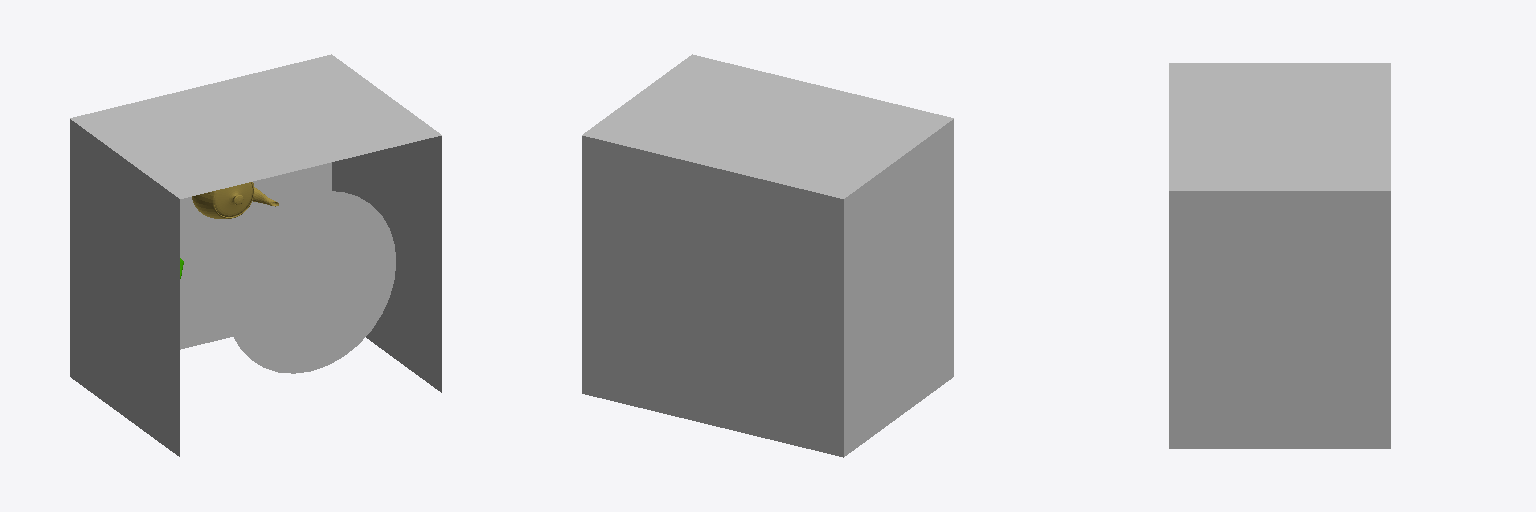
File: suzanne.obj
3 renders of one model, left to right at view 1: azimuth 30°, elevation 25°; view 2: azimuth 150°, elevation 25°; view 3: azimuth 270°, elevation 25°, orthographic.
Parts seen in each view (by area): view 1: Cube, Cylinder.001, Teapot; view 2: Cube; view 3: Cube.
Part boxes in pixels (x1,y1,x2,y2): Cube: (70,54,441,456); Cylinder.001: (226,191,395,373); Teapot: (192,182,278,218); Cube: (582,54,953,457); Cube: (1169,63,1390,448).
Bounding box in the file's own units: 9.84 × 9.26 × 7.18.